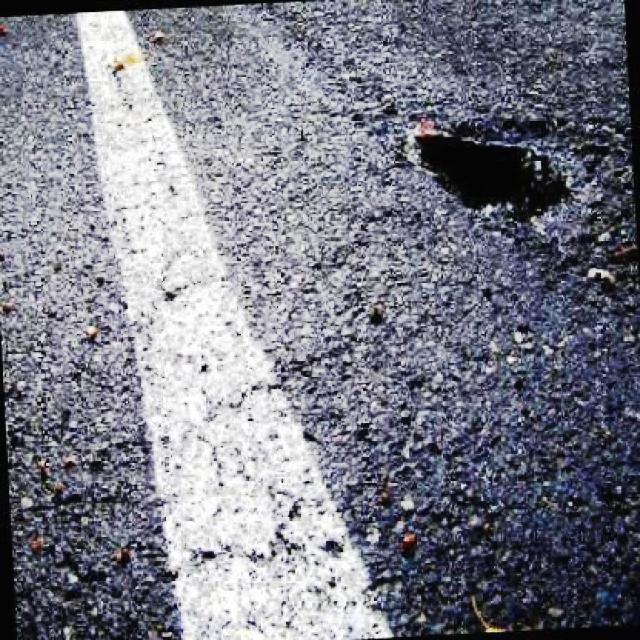pothole: (402, 109, 609, 254)
